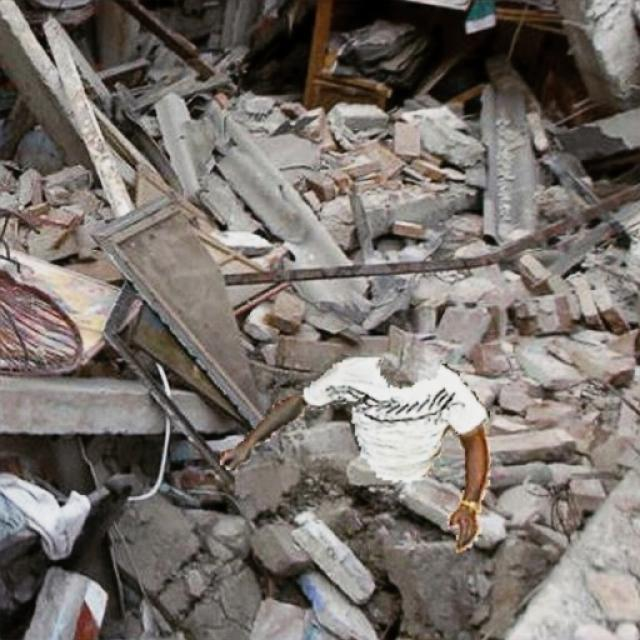Person in Rubble: (220, 358, 490, 552)
